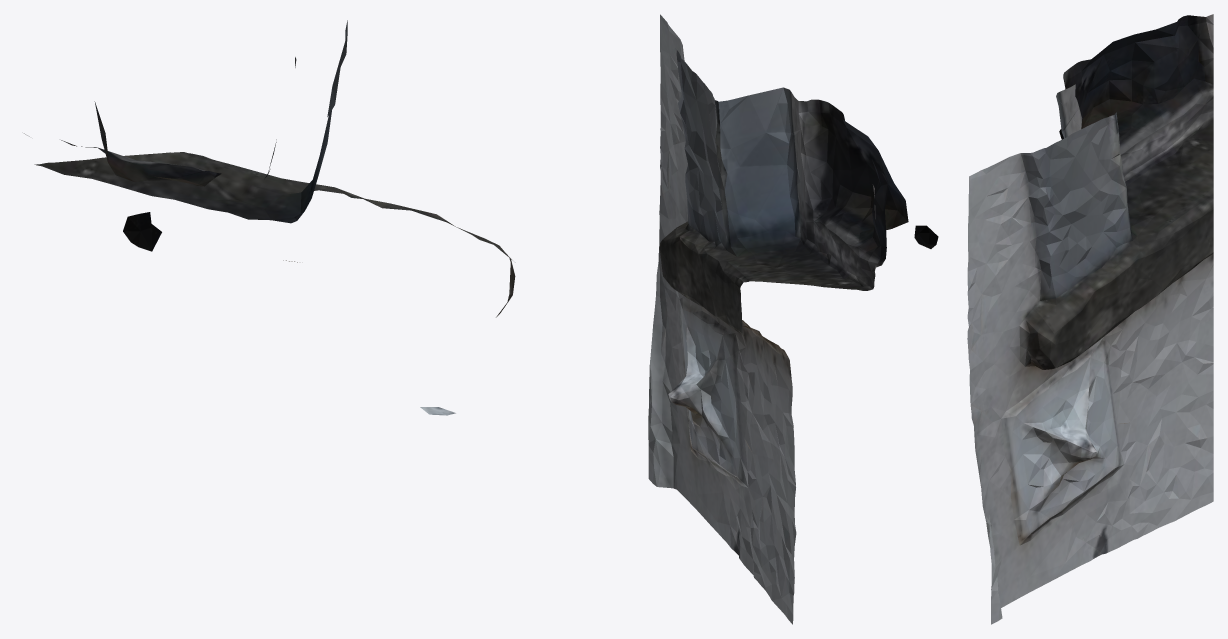
The picture shows the model from 3 angles, left to right: view 1: azimuth 30°, elevation 25°; view 2: azimuth 150°, elevation 25°; view 3: azimuth 270°, elevation 25°; orthographic projection. The views are drawn at different scales.
Bounding box in the file's own units: 0.6646 × 0.8374 × 0.4164.
Materials: 2 (2 with a texture image).
